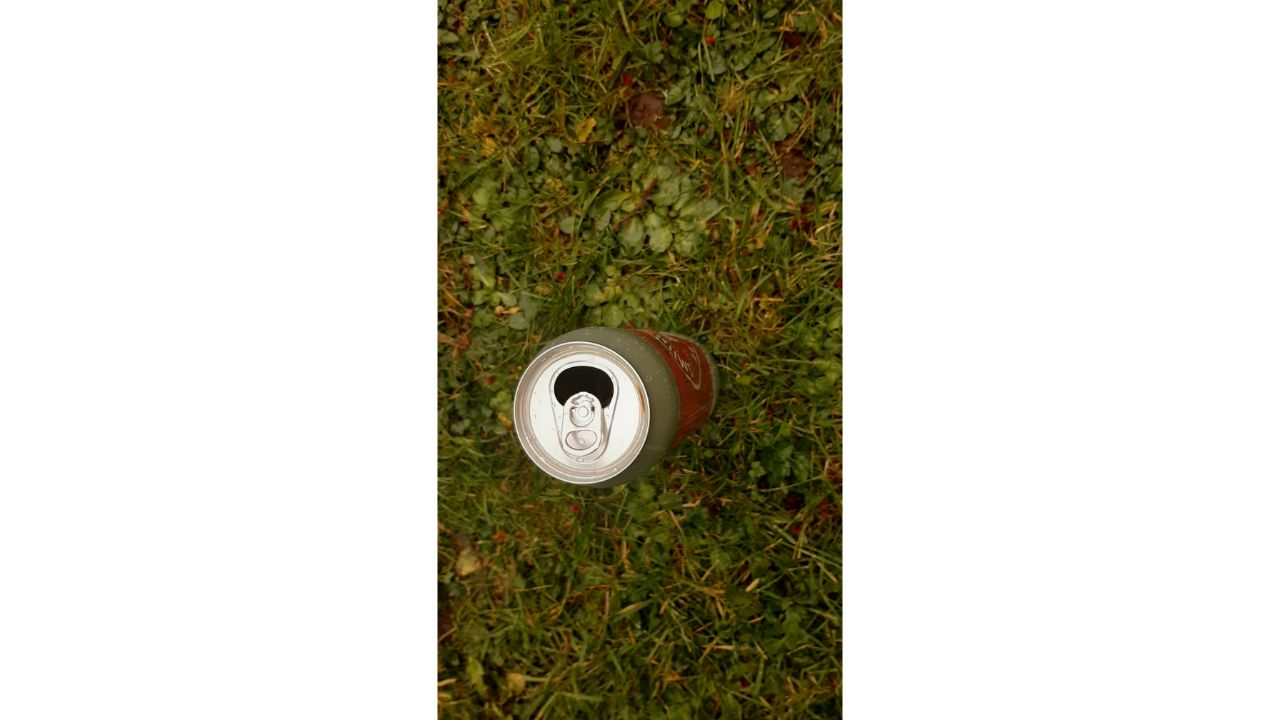Can: (510, 322, 715, 497)
